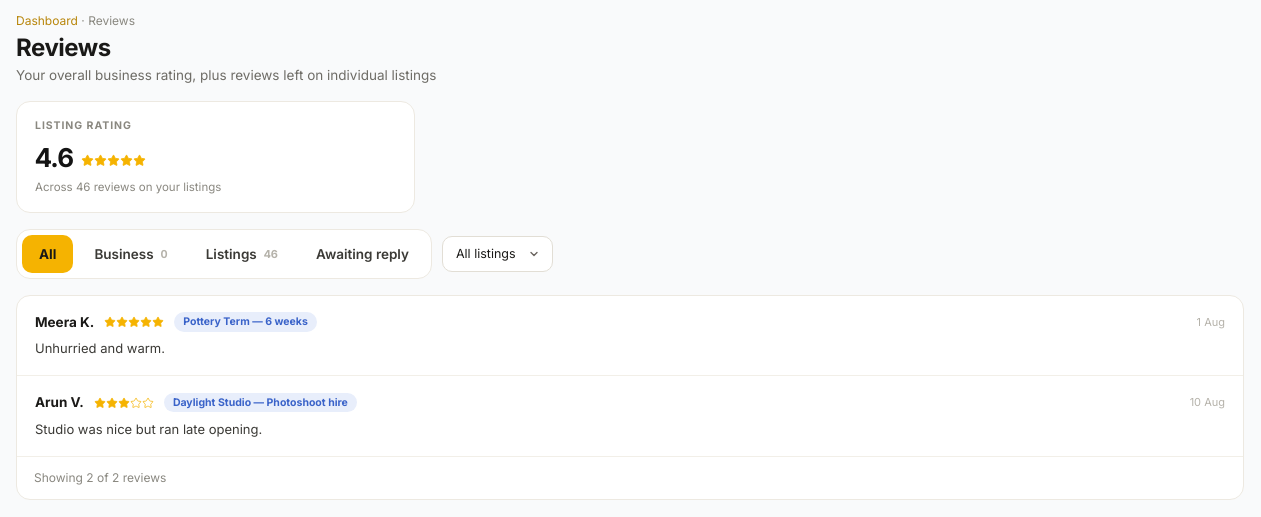
Test: Reviews — tabs › shows a Coming soon panel for the Business tab
Expected: the text "Meera K." is shown, [35,312,94,332]
What coordinates should you click on to do the following:
click the tab "Business 0"
I would click on:
 (131, 254)
Its box is [77,235,185,273].
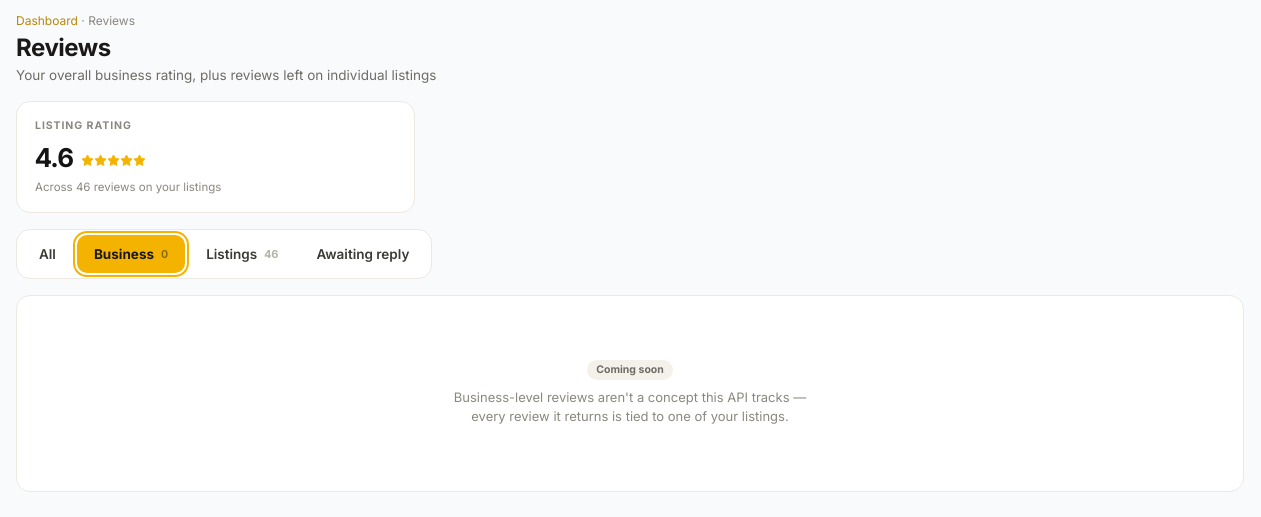
Result: the text "every review it returns is tied to one of your listings" is shown at [454,389,806,424]
